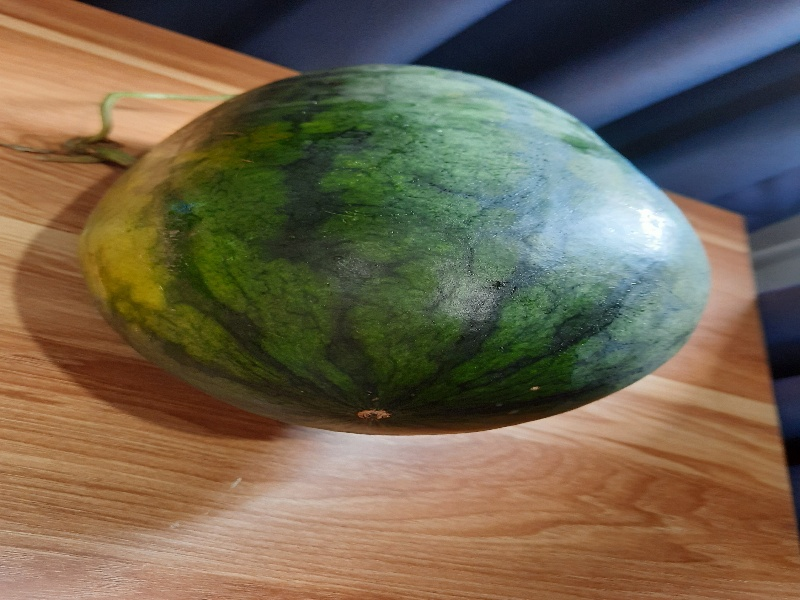fruit: (79, 63, 714, 448)
